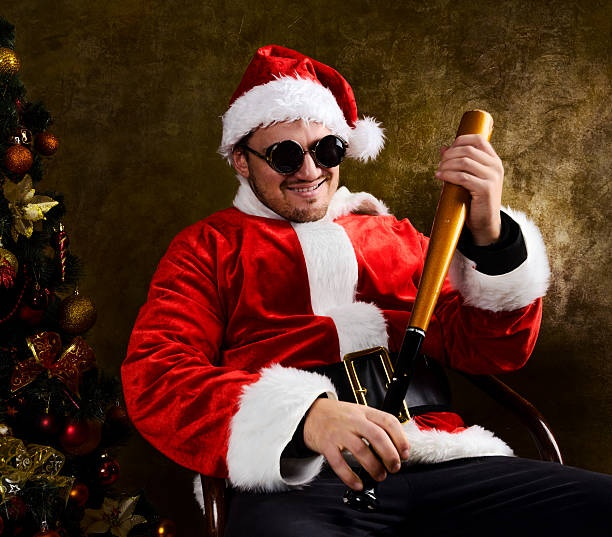bita: (345, 106, 494, 505)
